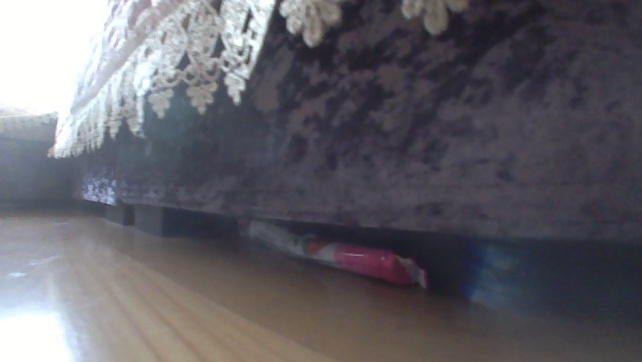sofa1: (0, 0, 641, 250)
